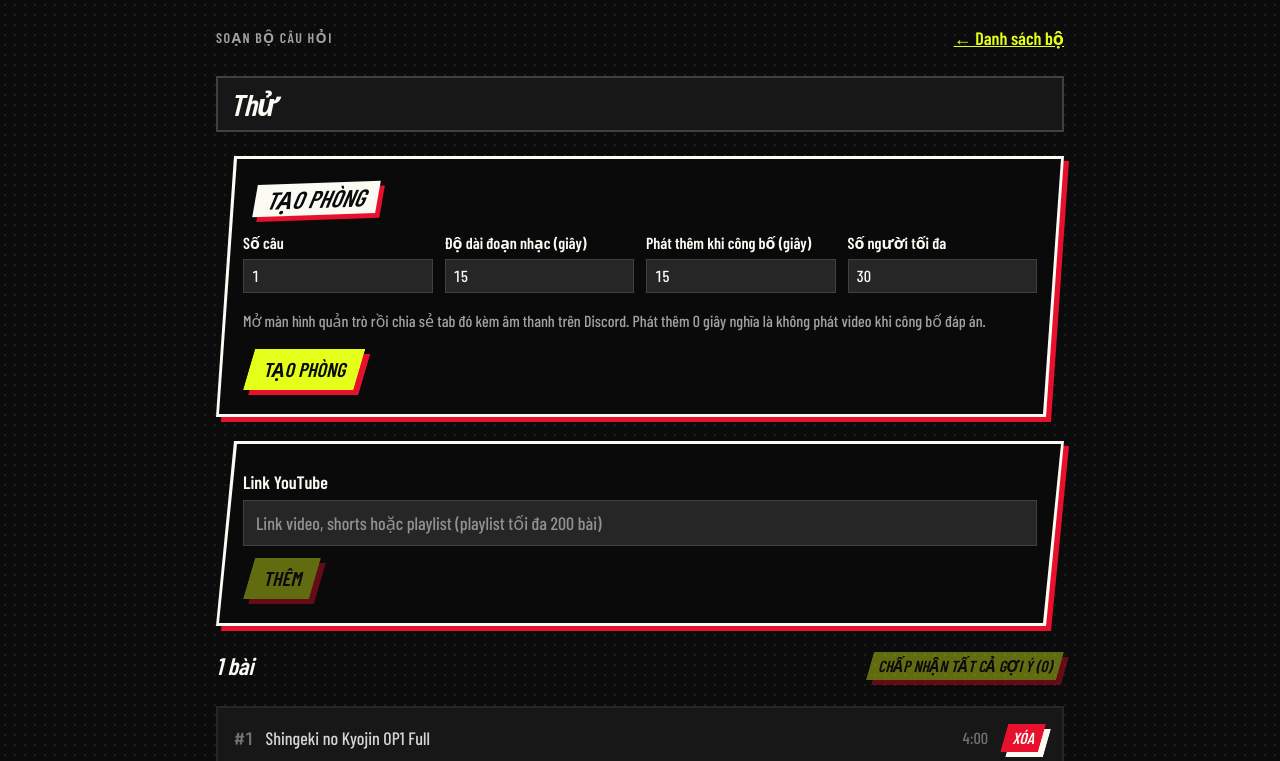
Test case: SetEditor › skips videos already in the set and reports import errors
This screenshot has width=1280, height=761.
In the field labelled "Link YouTube": (640, 523) [243, 500, 1037, 546], type "https://youtu.be/AAAAAAAAAAA"
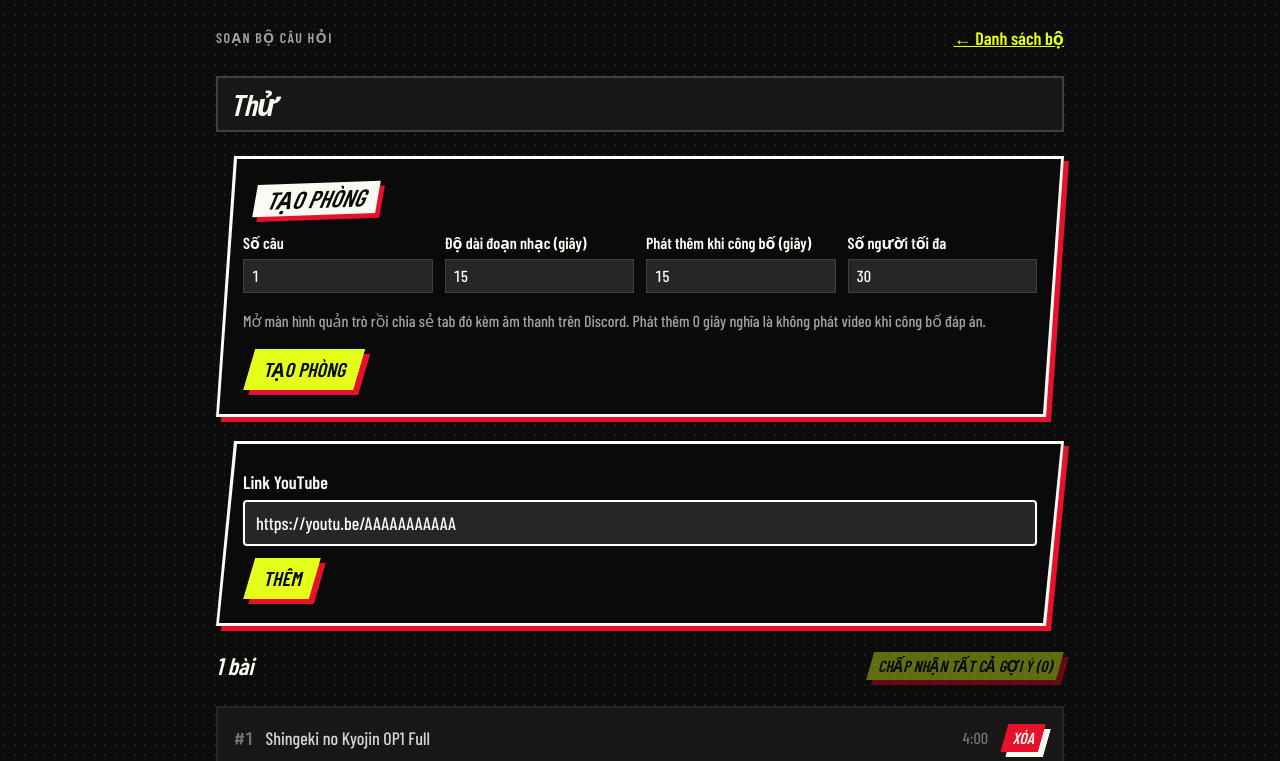
Click the button "Thêm": (282, 578) [243, 558, 321, 599]
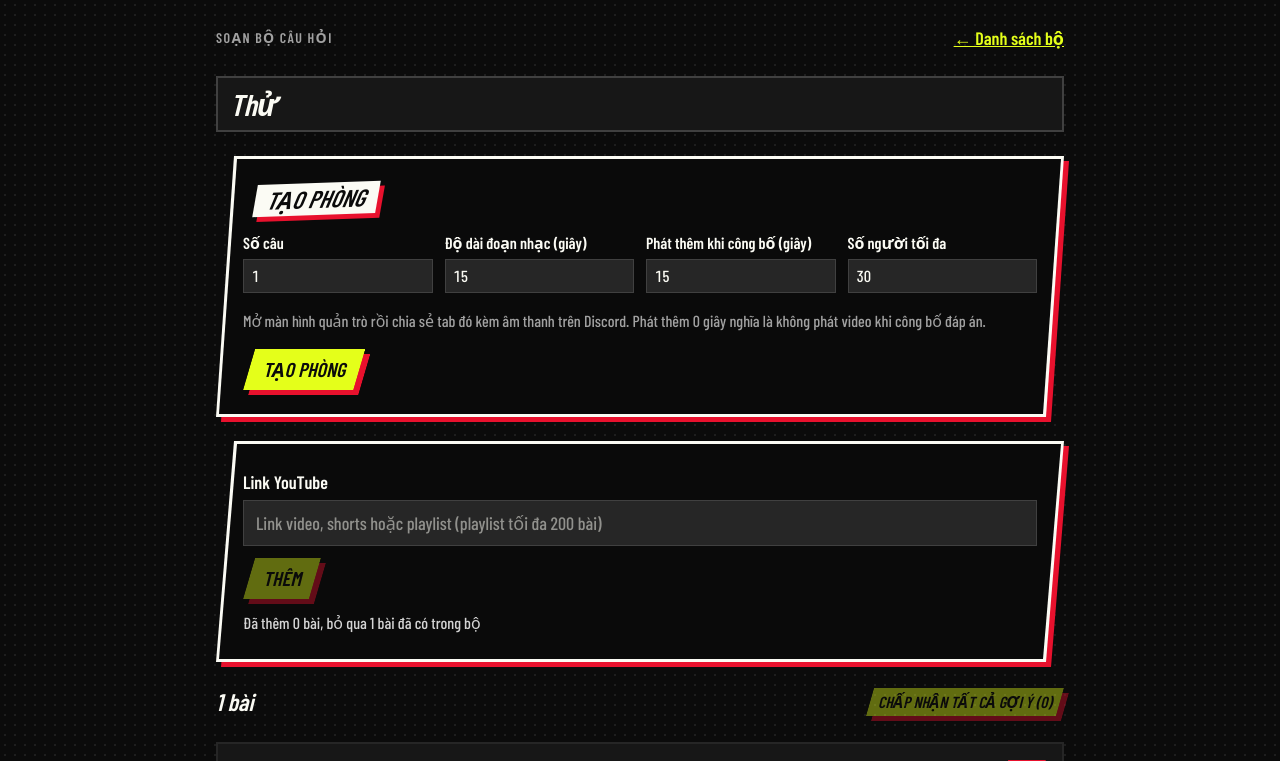
Check: the message reads "Đã thêm 0 bài, bỏ qua 1 bài đã có trong bộ", box [243, 613, 481, 632]
In the field labelled "Link YouTube": (640, 523) [243, 500, 1037, 546], type "https://example.com"
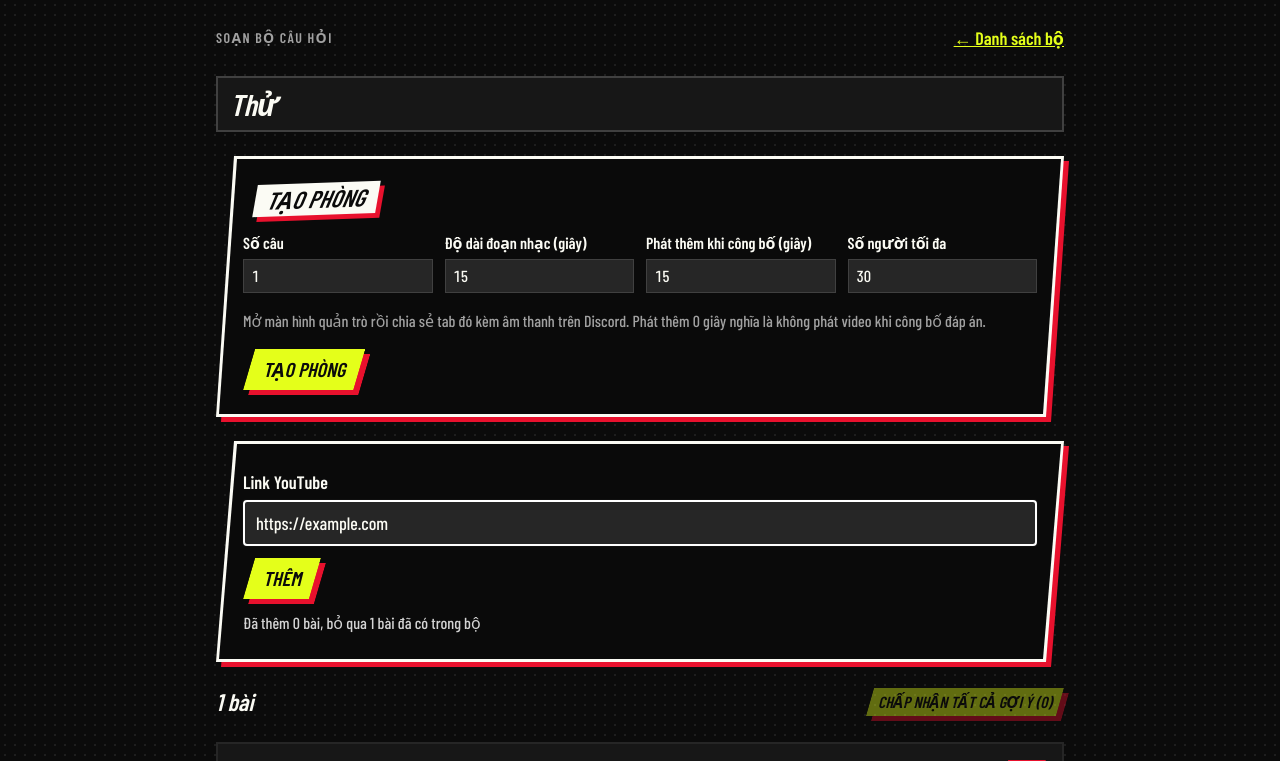
Click the button "Thêm": (282, 578) [243, 558, 321, 599]
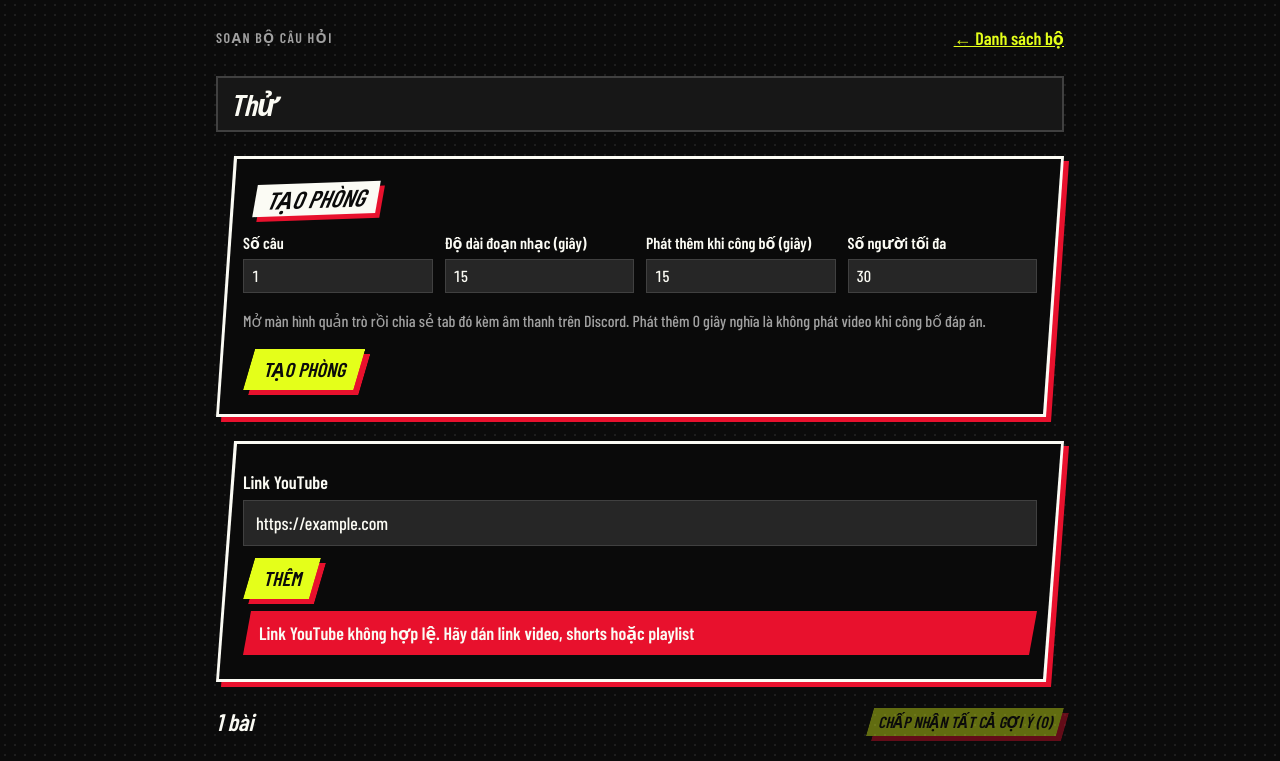
Check: the message reads "Link YouTube không hợp lệ. Hãy dán link video, shorts hoặc playlist", box [259, 622, 694, 644]
